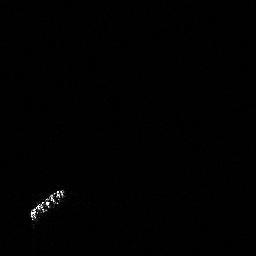ship: (29, 186, 66, 222)
